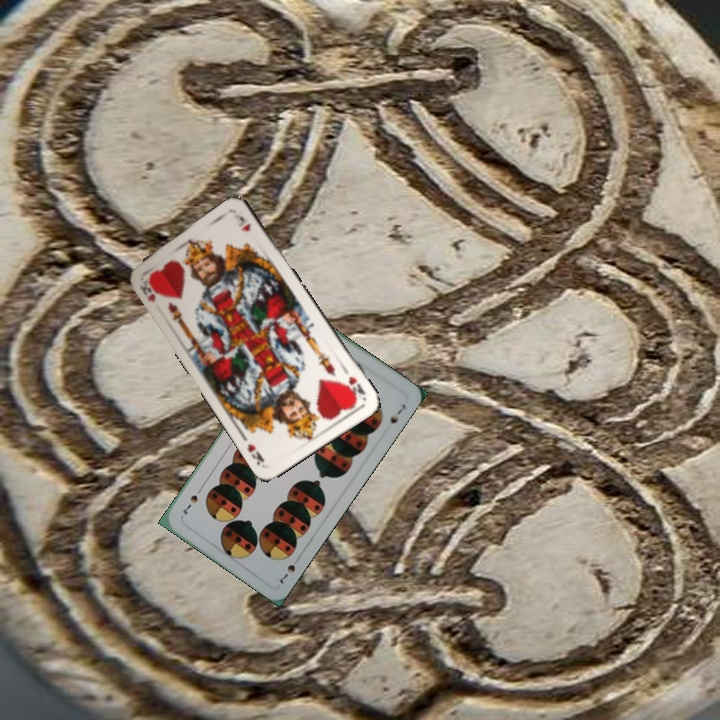HK: (339, 364, 368, 403), (135, 274, 164, 305)
S7: (275, 560, 298, 587)
